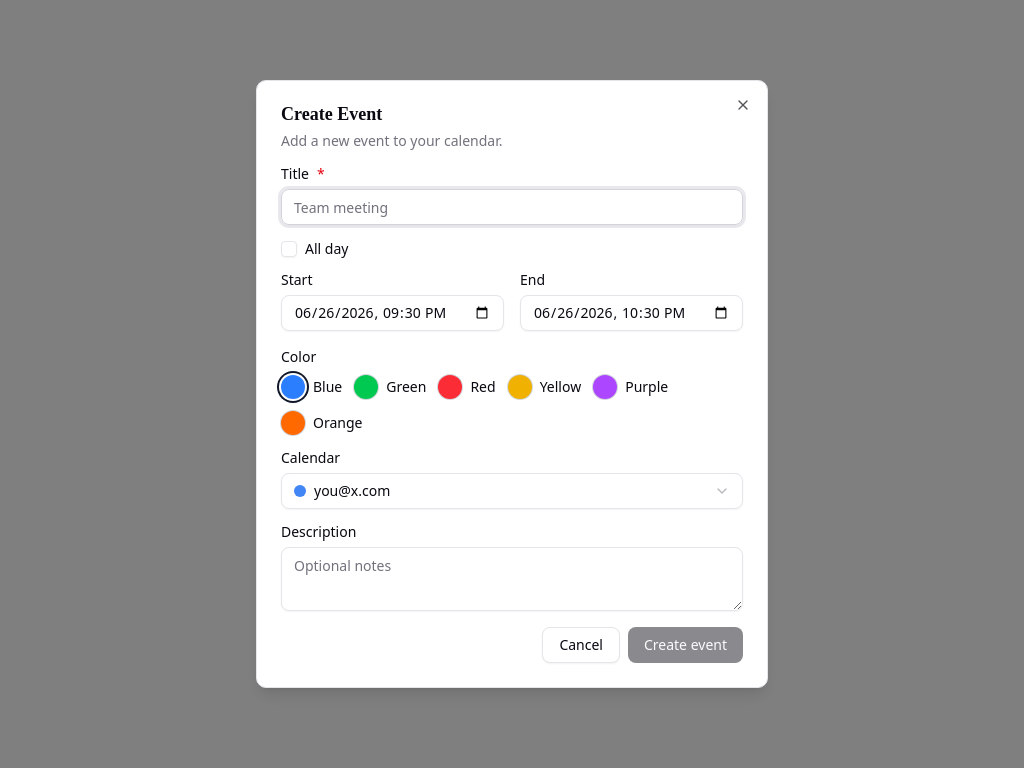
Scenario: EventCreateDialog › calendar picker (#268) › renders the picker with all writable calendars when more than one
// Open the listbox to inspect options
Click the dropdown named "calendar" at x=352, y=490, box [281, 473, 743, 509]
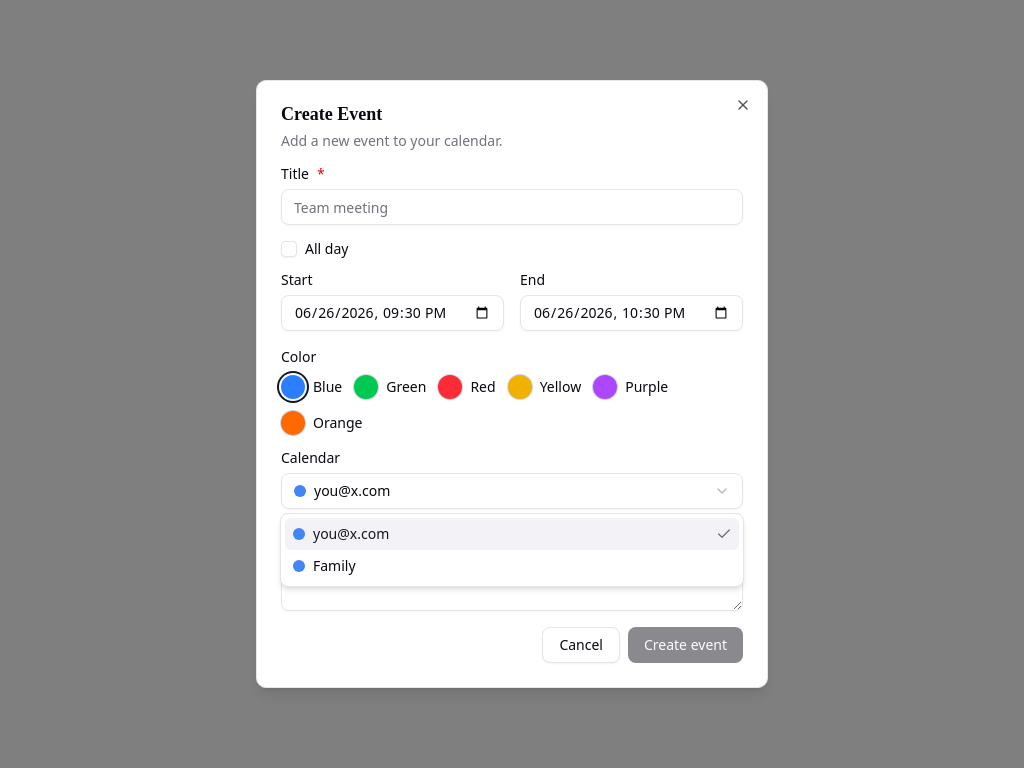
Expected: the text "you@x.com" is shown, [293, 524, 389, 544]
Result: the text "Family" is shown at [293, 556, 356, 576]
